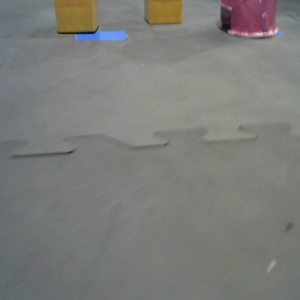Right: (218, 1, 281, 37)
